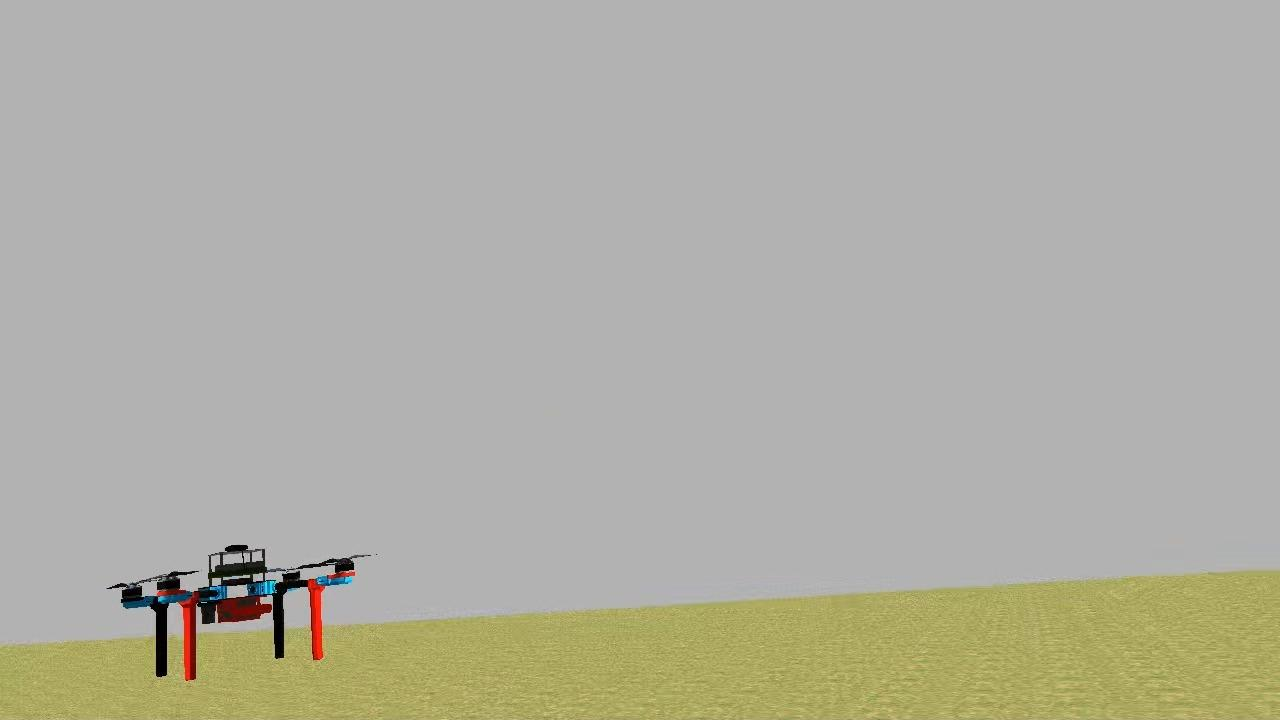UAV: (113, 536, 363, 688)
